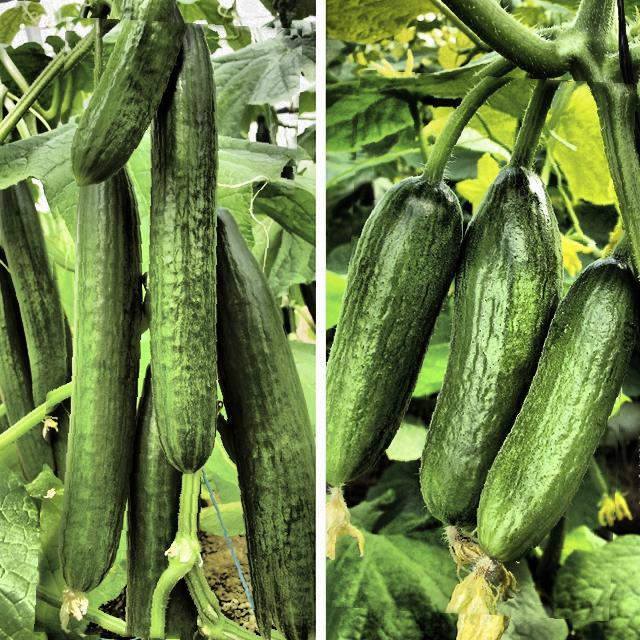cucumber: (339, 74, 630, 618), (42, 19, 294, 640)
